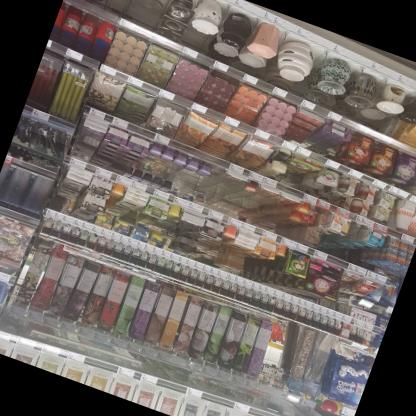empty_space: (238, 174, 301, 236), (191, 155, 251, 217)
